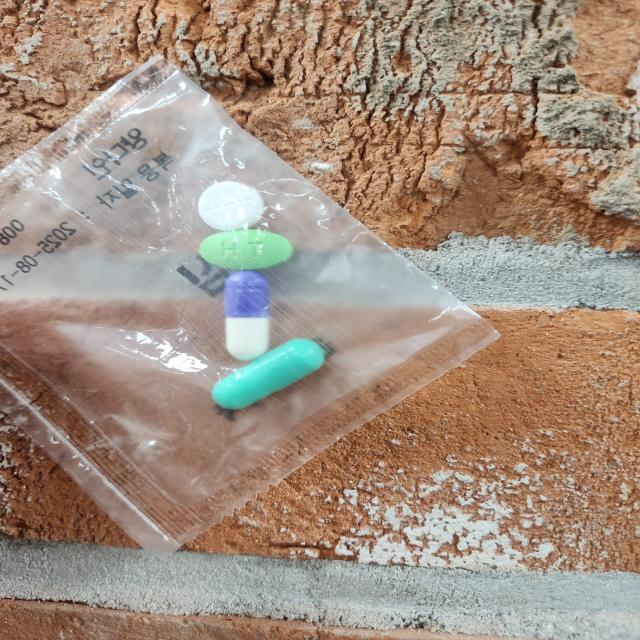러키펜정: (197, 181, 269, 234)
씨엠지세파클러캡슐: (221, 271, 273, 360)
에르도캡슐: (211, 339, 331, 414)
휴티렌정: (197, 230, 295, 274)
